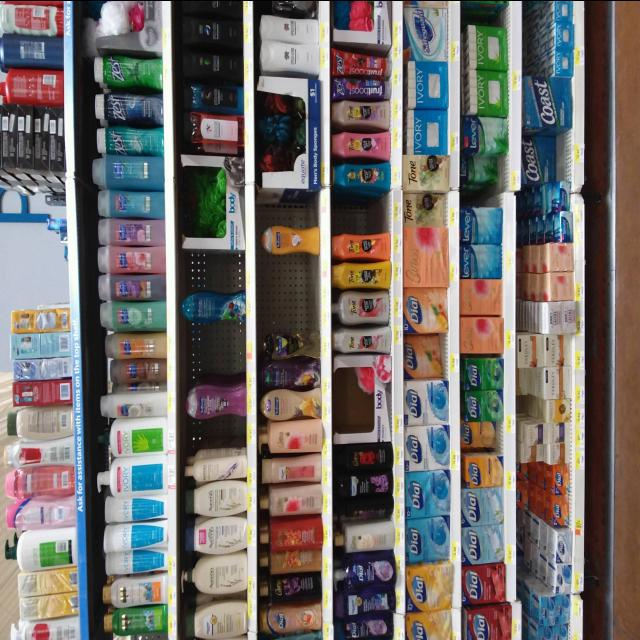empty_space: (265, 267, 316, 325), (185, 257, 245, 282), (191, 337, 237, 367), (333, 203, 392, 225), (194, 424, 246, 441)
